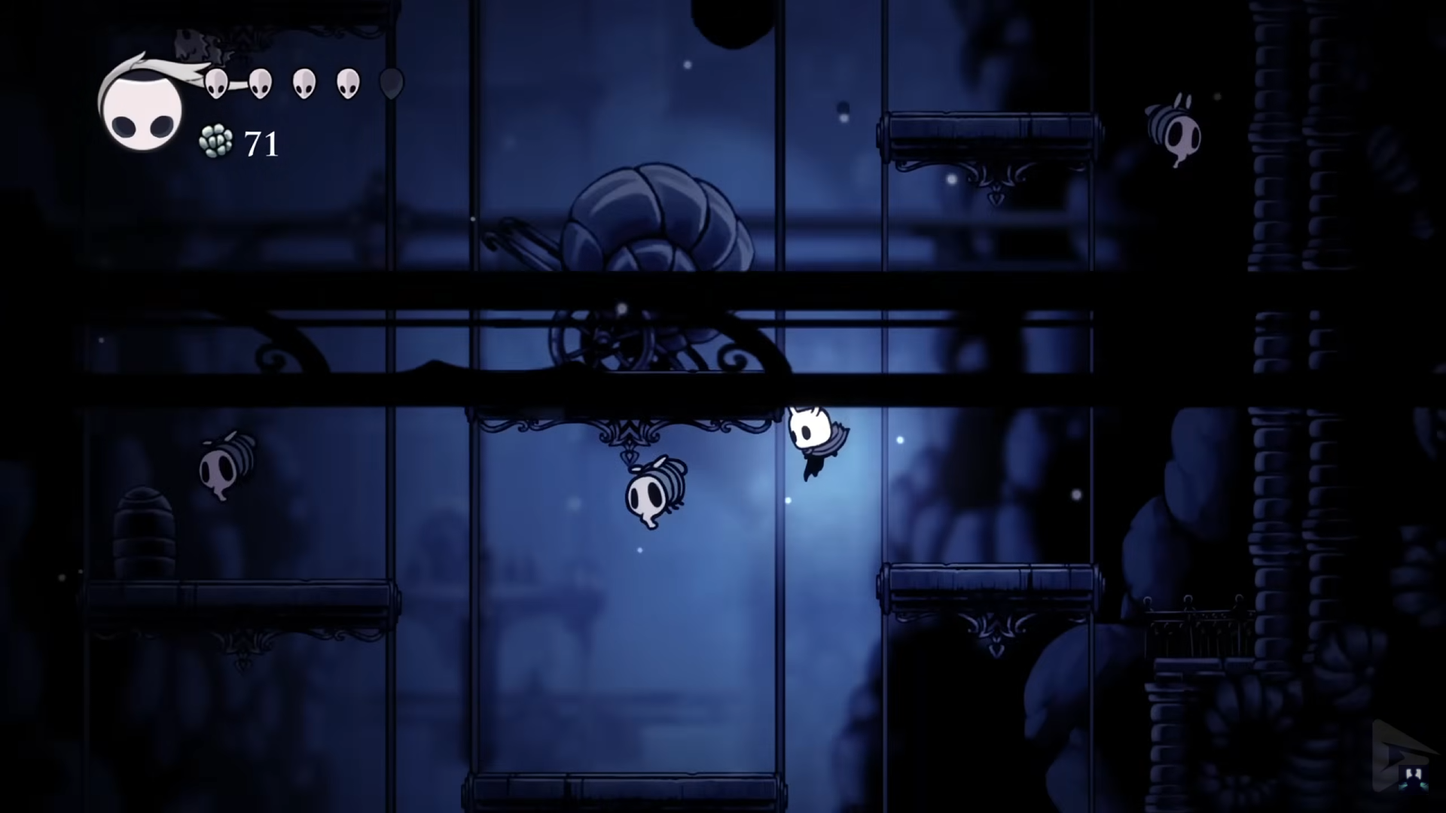HK: (781, 404, 851, 484)
